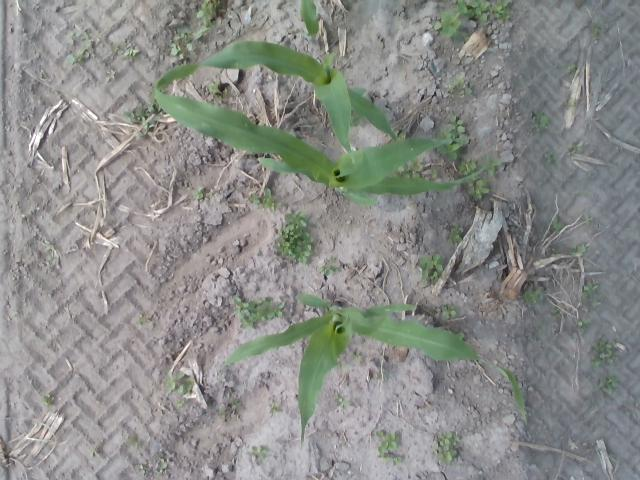Maize: (223, 293, 528, 446), (157, 88, 487, 208), (157, 40, 399, 160), (299, 0, 320, 41)
Weeds: (276, 212, 312, 264), (234, 296, 284, 328), (124, 100, 155, 140), (454, 0, 489, 21), (592, 340, 618, 366), (376, 431, 398, 457), (441, 10, 461, 37), (468, 179, 488, 201), (166, 371, 184, 394), (490, 0, 510, 20), (198, 3, 214, 27), (437, 433, 460, 449), (446, 115, 466, 133), (319, 258, 338, 276), (522, 286, 540, 304), (248, 445, 266, 463), (262, 189, 278, 209), (598, 377, 618, 393), (437, 449, 457, 465), (418, 254, 430, 278), (67, 52, 90, 64), (448, 226, 464, 243), (459, 160, 477, 175), (428, 254, 442, 272), (208, 78, 222, 96), (488, 158, 502, 176), (178, 379, 194, 394), (84, 29, 94, 53), (443, 144, 460, 158), (174, 27, 192, 40), (67, 30, 81, 46), (571, 244, 587, 257), (584, 282, 598, 296), (442, 306, 456, 320), (126, 433, 139, 447), (412, 160, 423, 176), (552, 217, 564, 231), (335, 394, 347, 408), (538, 115, 549, 130), (125, 48, 138, 60), (192, 186, 204, 198), (195, 28, 209, 38), (351, 350, 362, 362), (170, 43, 181, 55), (161, 458, 174, 468), (438, 131, 456, 138), (544, 152, 554, 164), (269, 402, 278, 415), (106, 69, 115, 82), (250, 194, 260, 205), (232, 398, 242, 409), (569, 145, 581, 154), (452, 78, 465, 86), (579, 318, 589, 328), (392, 456, 402, 466), (41, 395, 50, 405), (429, 168, 438, 178), (565, 64, 575, 73), (429, 271, 438, 280), (115, 46, 124, 54), (464, 86, 473, 94), (433, 22, 442, 30), (585, 214, 592, 224), (608, 452, 618, 458), (140, 464, 146, 474), (592, 300, 600, 307), (176, 400, 184, 407), (187, 43, 194, 51), (551, 308, 559, 314), (139, 316, 145, 324), (580, 190, 588, 196), (157, 470, 164, 476), (90, 452, 98, 457), (184, 184, 190, 190), (536, 326, 542, 332), (536, 112, 542, 118)
